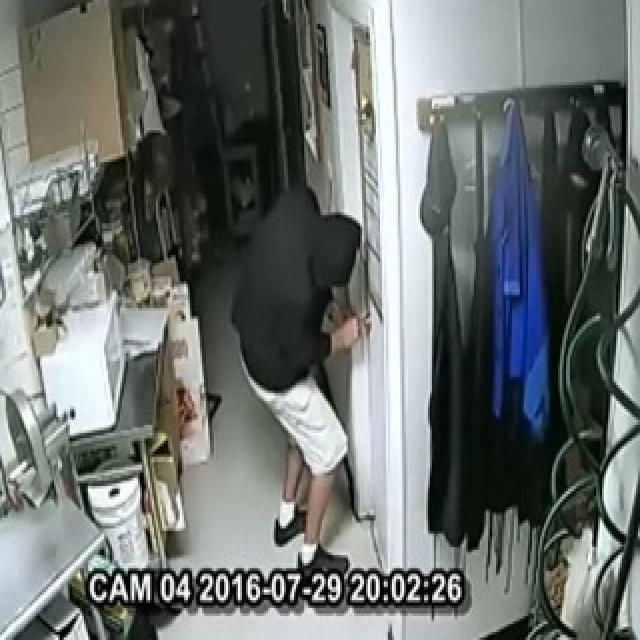thief: (237, 204, 389, 515)
